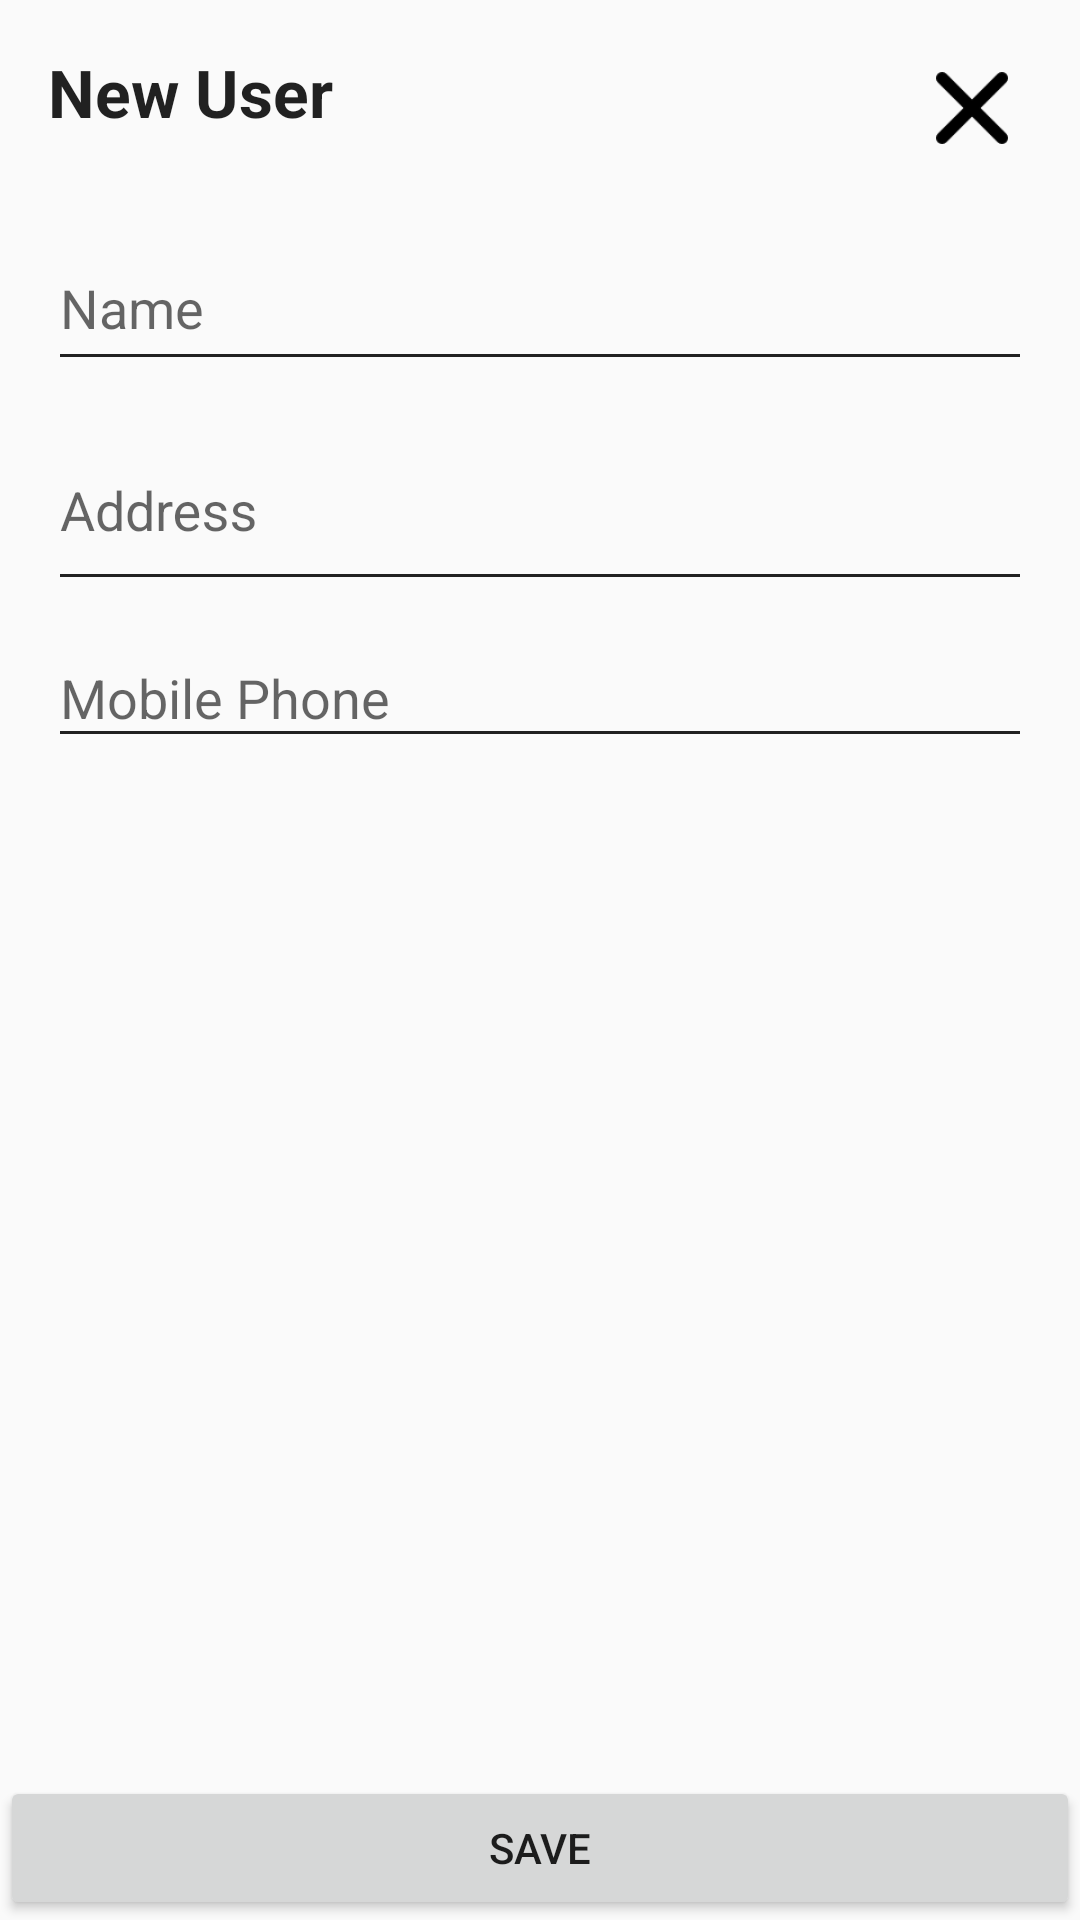

Named icons in this screenshot (1080*1920) and their bounding boxes, (x1,y1,x2,y2):
cross: (936,72,1008,144)
